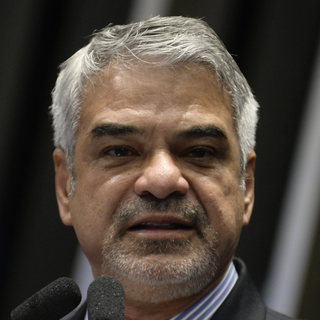eye: (166, 139, 226, 164), (92, 139, 147, 166)
